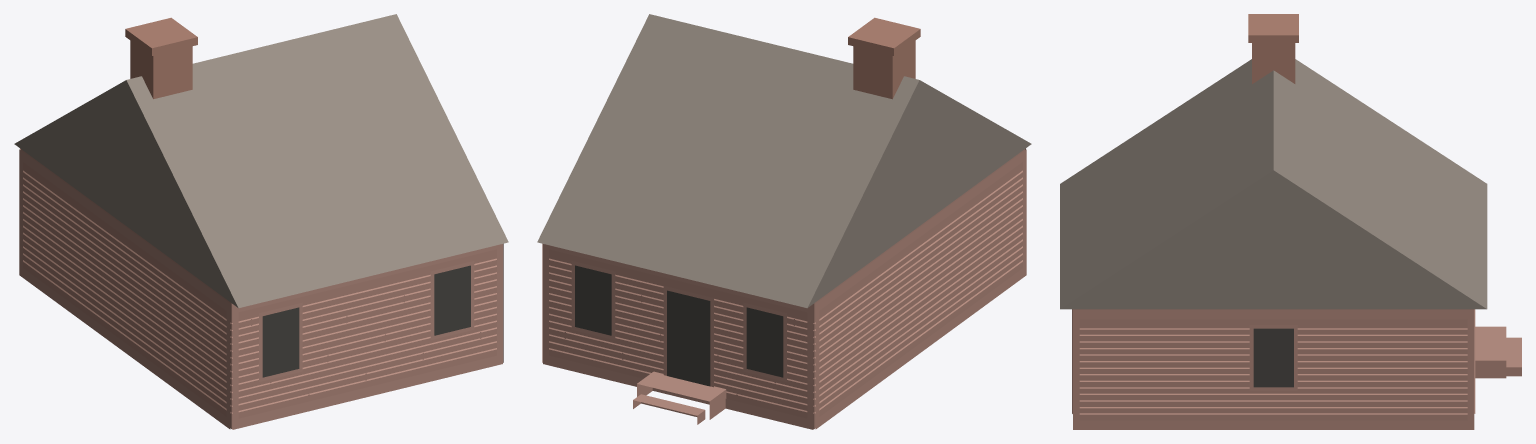
Rendered from recon_1835_south_d4_025__inferred_1835.glb.
The picture shows the model from 3 angles, left to right: view 1: azimuth 30°, elevation 25°; view 2: azimuth 150°, elevation 25°; view 3: azimuth 270°, elevation 25°; orthographic projection. The views are drawn at different scales.
Visible parts, largest first — view 1: recon_1835_south_d4_025__inferred_1835; view 2: recon_1835_south_d4_025__inferred_1835; view 3: recon_1835_south_d4_025__inferred_1835.
Boxes of the visible parts, left/top/right/bottom form: recon_1835_south_d4_025__inferred_1835: left=14, top=14, right=508, bottom=429; recon_1835_south_d4_025__inferred_1835: left=537, top=14, right=1031, bottom=429; recon_1835_south_d4_025__inferred_1835: left=1060, top=14, right=1521, bottom=429.
Size of the model in its own units: 5.83 by 6.32 by 8.95.
